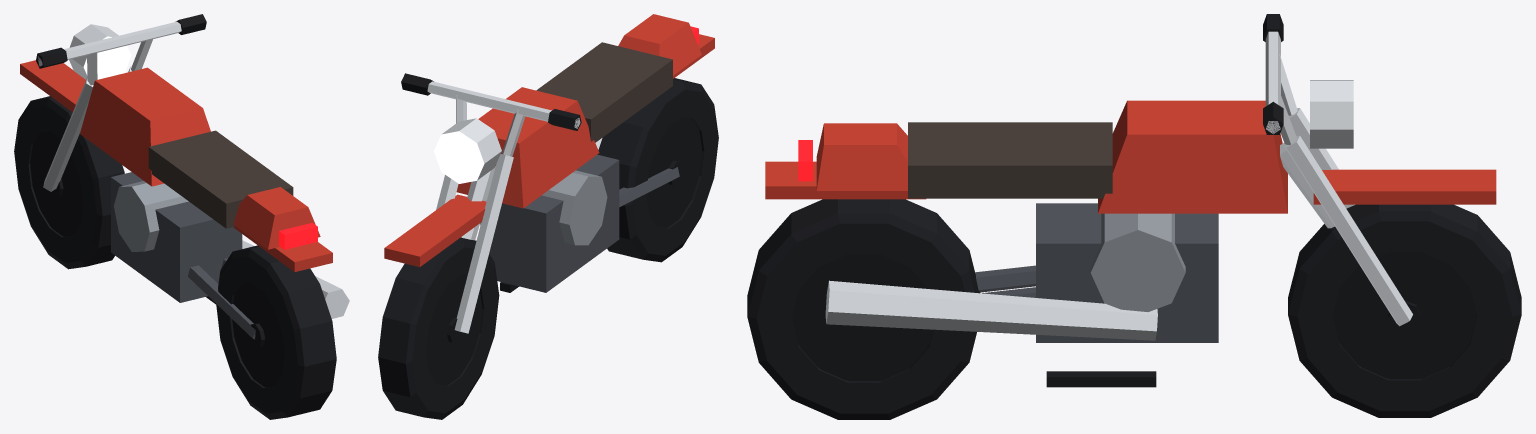
Rendered from motorcycle.glb.
The picture shows the model from 3 angles, left to right: view 1: azimuth 30°, elevation 25°; view 2: azimuth 150°, elevation 25°; view 3: azimuth 270°, elevation 25°; orthographic projection. The views are drawn at different scales.
Visible parts, largest first — view 1: motorcycle, motorcycle_wheel_r, motorcycle_wheel_f; view 2: motorcycle, motorcycle_wheel_f, motorcycle_wheel_r; view 3: motorcycle, motorcycle_wheel_f, motorcycle_wheel_r.
Part boxes in pixels (x1,y1,x2,y2): motorcycle: [20, 14, 349, 339]; motorcycle_wheel_r: [216, 245, 336, 419]; motorcycle_wheel_f: [14, 96, 124, 269]; motorcycle: [384, 14, 714, 333]; motorcycle_wheel_f: [378, 237, 499, 419]; motorcycle_wheel_r: [597, 78, 718, 262]; motorcycle: [765, 14, 1496, 387]; motorcycle_wheel_f: [1288, 204, 1521, 417]; motorcycle_wheel_r: [747, 199, 980, 419].
Size of the model in its own units: 0.68 by 1.04 by 2.12.
